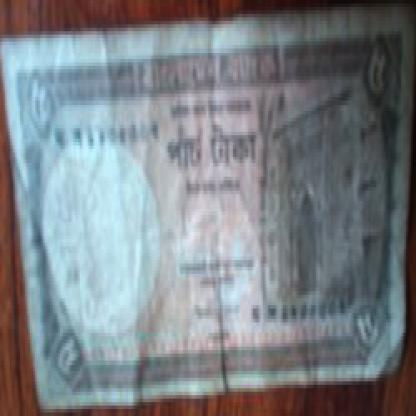Five Taka: (163, 125, 266, 173), (50, 322, 81, 392), (364, 31, 391, 108), (353, 302, 386, 354), (25, 66, 52, 128)
